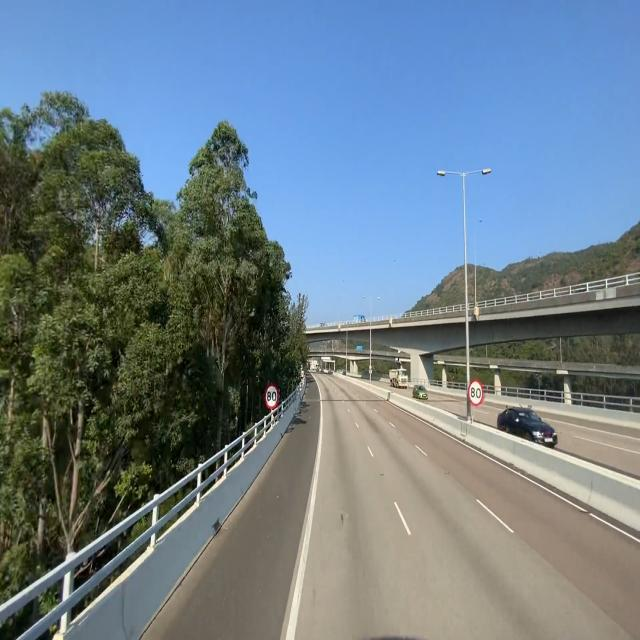Car: (494, 399, 559, 459), (413, 381, 429, 402)
